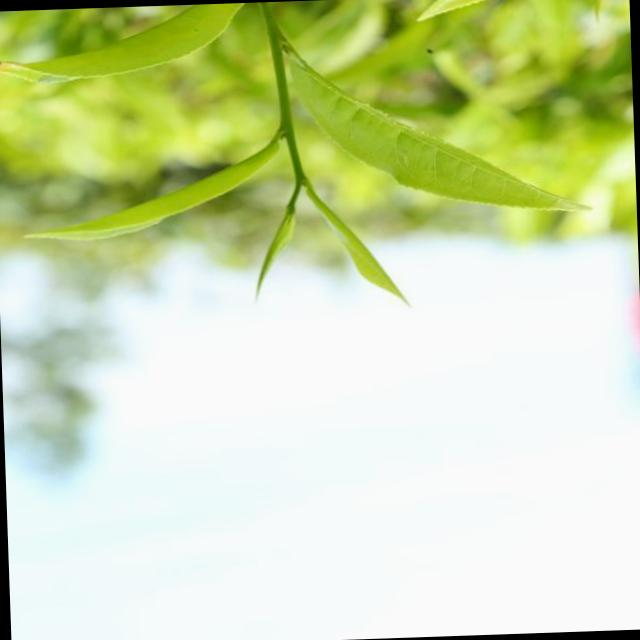Stem: (297, 172, 304, 184)
